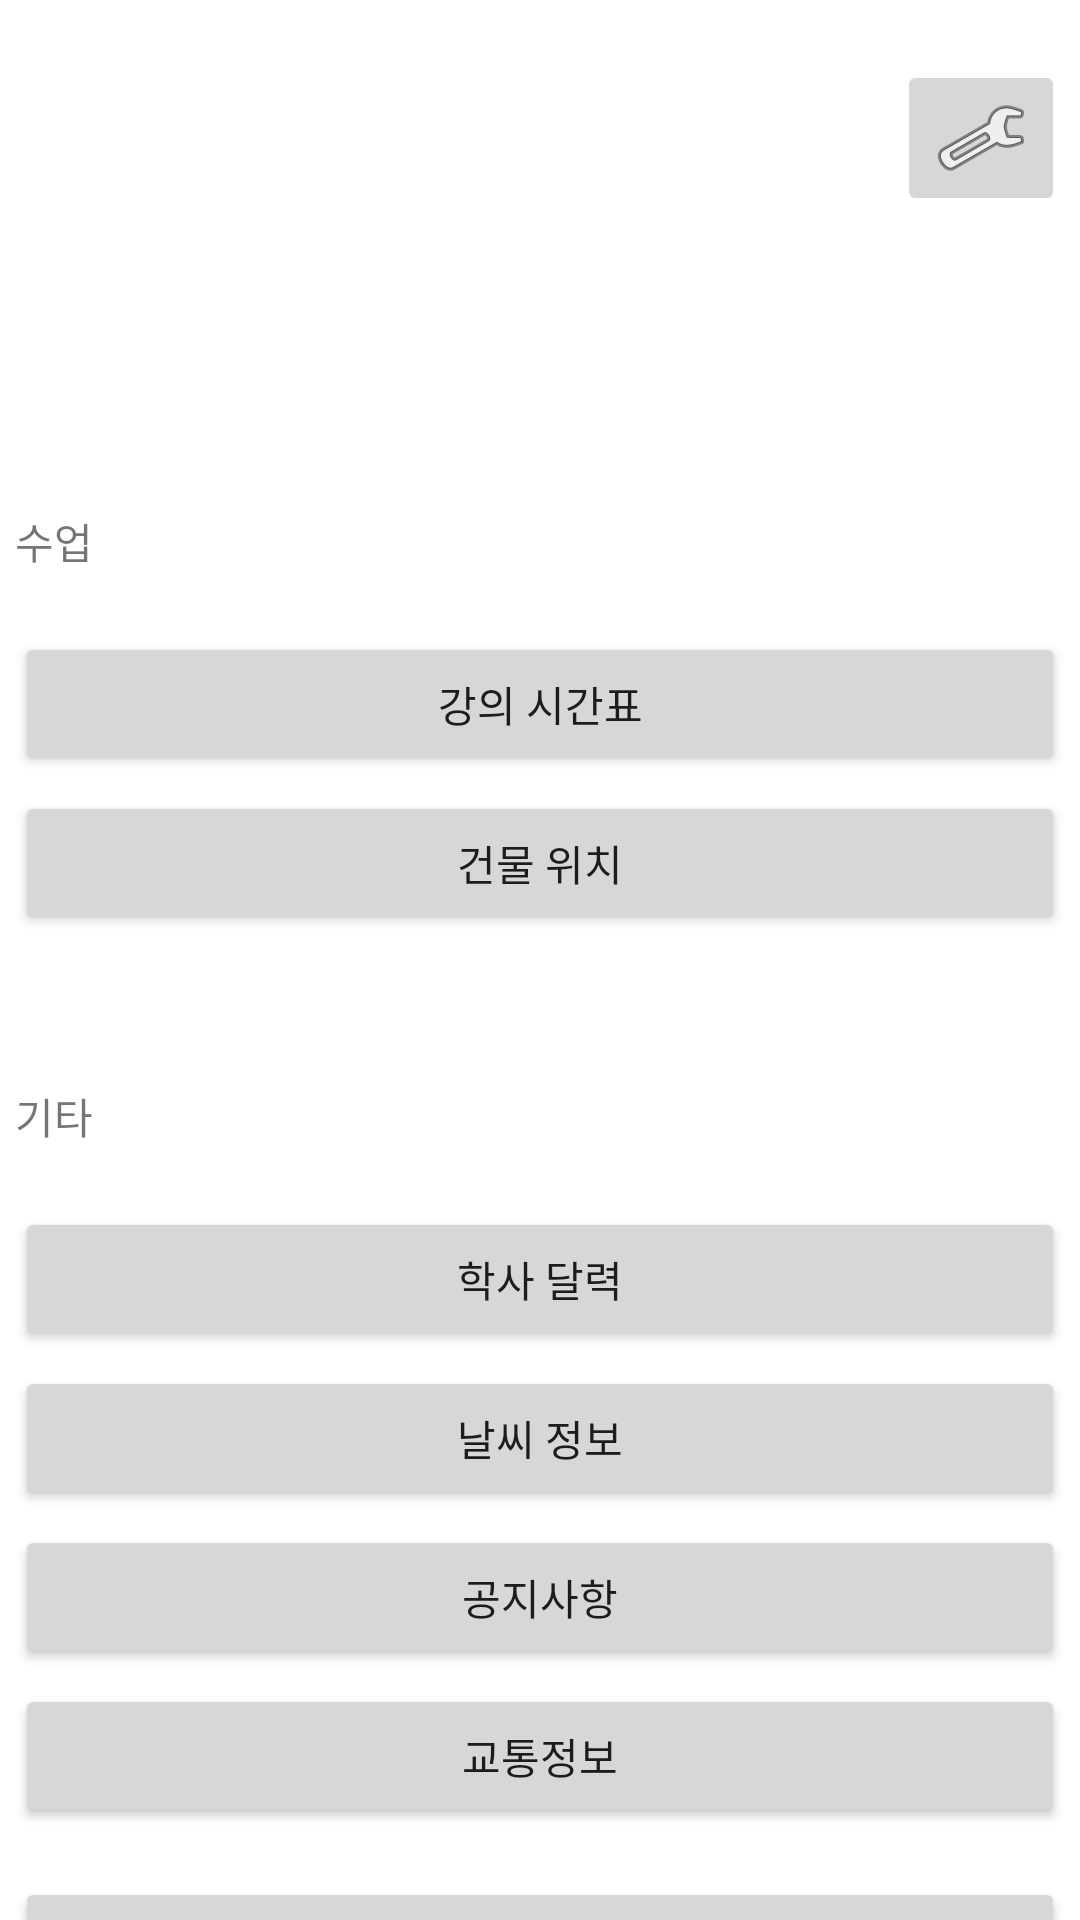

Where icons sit on this 1080w x 1920h app screen, as (x1, y1, x2, y2):
manage: (909, 78, 1053, 198)
